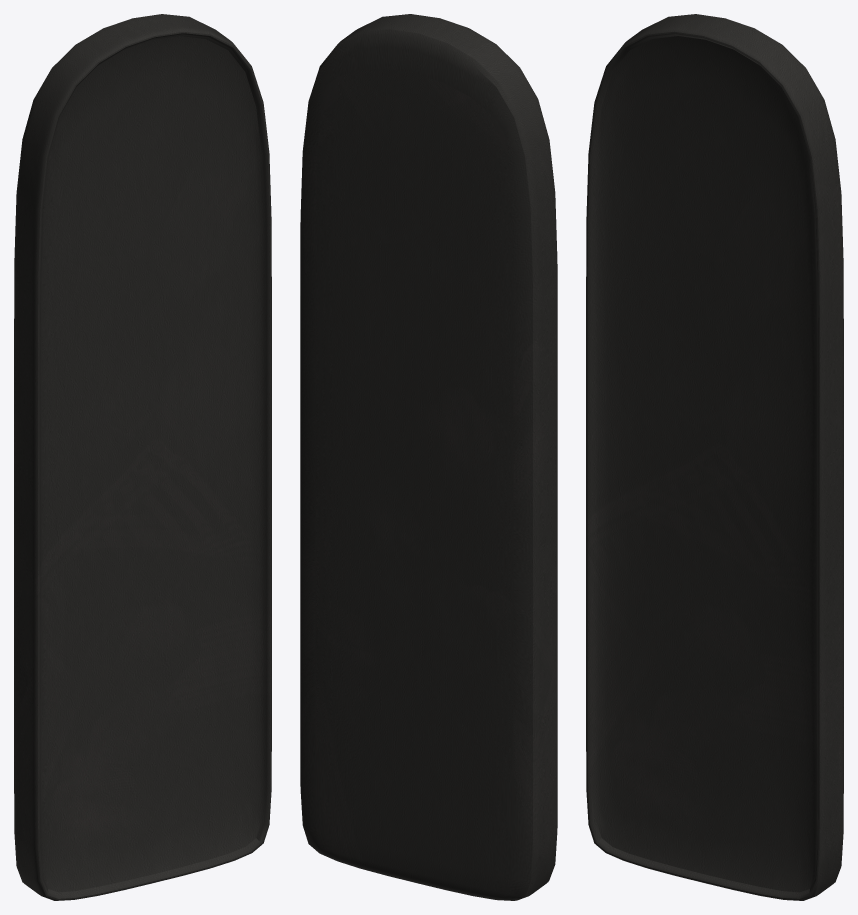
File: X_MIRROR_.fbx
The picture shows the model from 3 angles, left to right: view 1: azimuth 30°, elevation 25°; view 2: azimuth 150°, elevation 25°; view 3: azimuth 330°, elevation 25°; orthographic projection.
Parts seen in each view (by area): view 1: X_MIRROR; view 2: X_MIRROR; view 3: X_MIRROR.
Part boxes in pixels (box(x1,y1,x2,y2)): X_MIRROR: box(14, 14, 271, 900); X_MIRROR: box(300, 14, 557, 900); X_MIRROR: box(586, 14, 843, 900).
Size of the model in its own units: 46 by 157 by 9.21.
